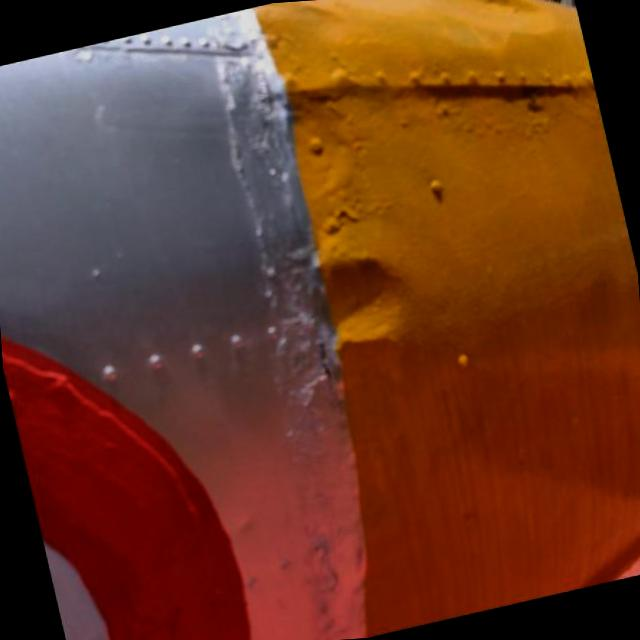dent: (317, 210, 452, 348)
